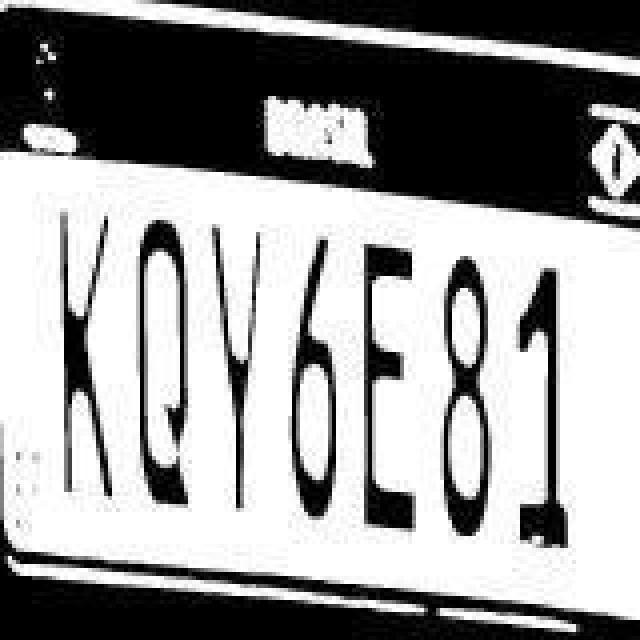1: (510, 264, 578, 552)
6: (276, 234, 340, 526)
8: (432, 256, 496, 544)
E: (352, 238, 424, 538)
K: (50, 204, 118, 500)
Q: (130, 214, 190, 506)
Y: (208, 220, 272, 516)
